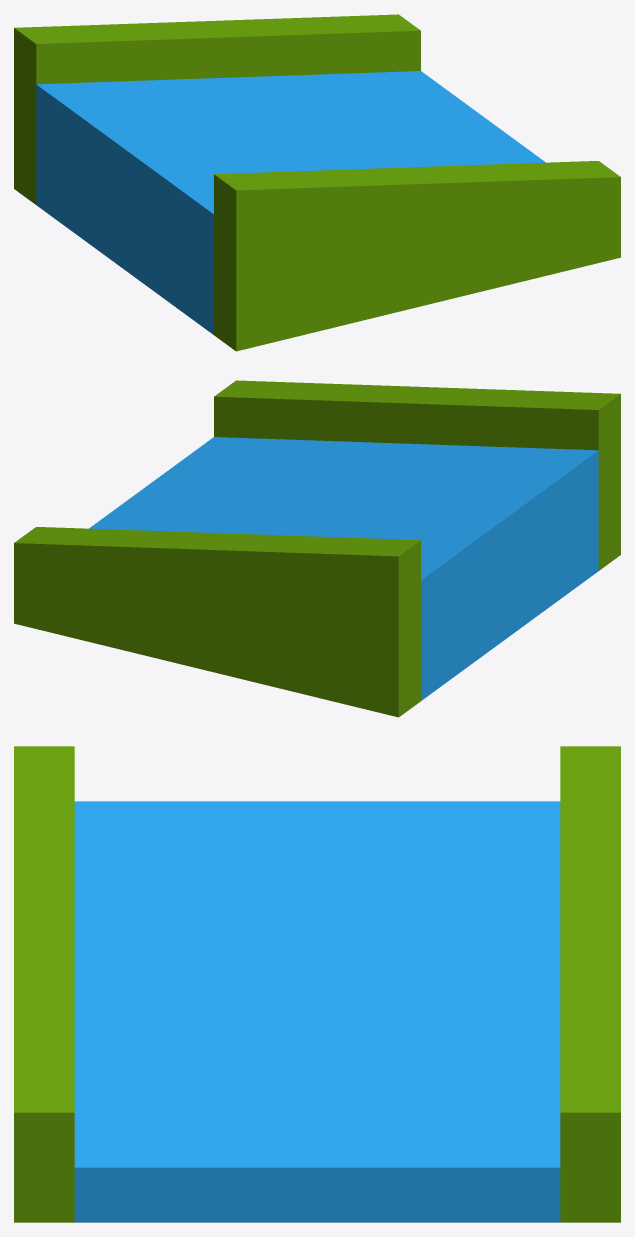
File: TileWater_08.fbx
3 renders of one model, top to bottom at view 1: azimuth 30°, elevation 25°; view 2: azimuth 150°, elevation 25°; view 3: azimuth 270°, elevation 25°, orthographic. The views are drawn at different scales.
Parts seen in each view (by area): view 1: TileWater_08; view 2: TileWater_08; view 3: TileWater_08.
Part boxes in pixels (box(x1,y1,x2,y2)): TileWater_08: box(14, 14, 620, 351); TileWater_08: box(14, 380, 620, 717); TileWater_08: box(14, 746, 620, 1222).
Bounding box in the file's own units: 500 × 200 × 500.
